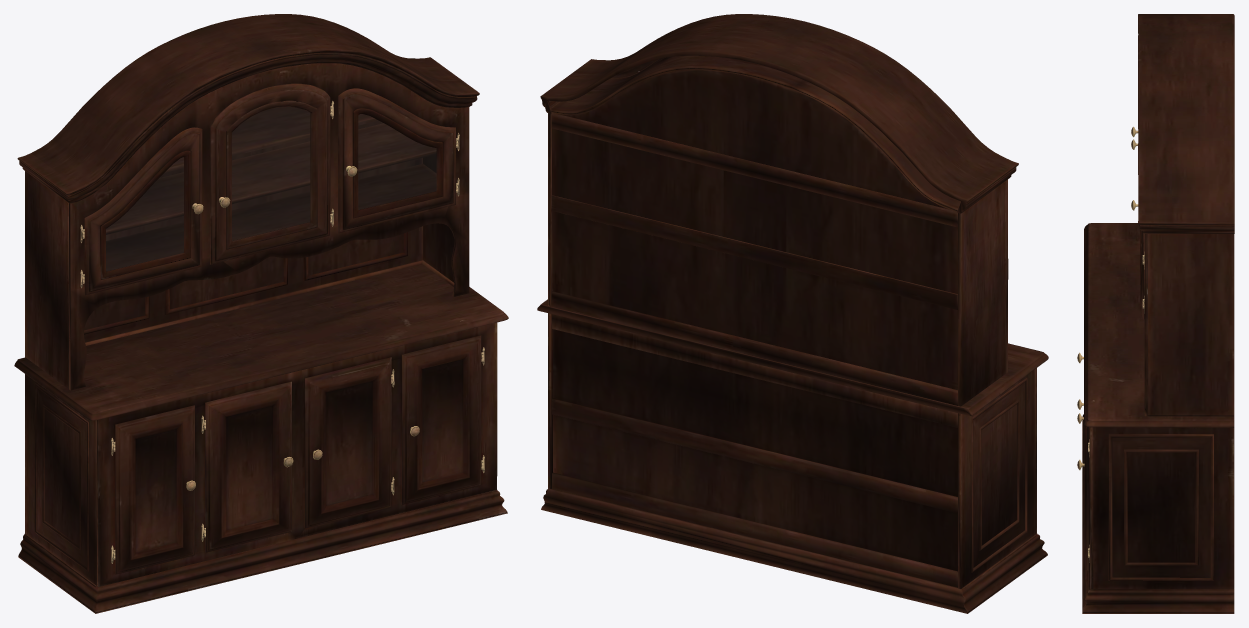
File: vintage_cabinet_01.glb
The picture shows the model from 3 angles, left to right: view 1: azimuth 30°, elevation 25°; view 2: azimuth 150°, elevation 25°; view 3: azimuth 270°, elevation 25°; orthographic projection. The views are drawn at different scales.
Visible parts, largest first — view 1: vintage_cabinet_01_body, vintage_cabinet_01_door_03, vintage_cabinet_01_door_01, vintage_cabinet_01_door_04, vintage_cabinet_01_door_07, vintage_cabinet_01_door_06, vintage_cabinet_01_door_02, vintage_cabinet_01_door_05; view 2: vintage_cabinet_01_body; view 3: vintage_cabinet_01_body, vintage_cabinet_01_door_02, vintage_cabinet_01_door_04.
Boxes of the visible parts, bbox=[...] form: vintage_cabinet_01_body: bbox=[14, 14, 508, 613]; vintage_cabinet_01_door_03: bbox=[210, 83, 332, 264]; vintage_cabinet_01_door_01: bbox=[83, 127, 203, 295]; vintage_cabinet_01_door_04: bbox=[338, 88, 457, 233]; vintage_cabinet_01_door_07: bbox=[304, 357, 392, 528]; vintage_cabinet_01_door_06: bbox=[204, 381, 293, 552]; vintage_cabinet_01_door_02: bbox=[401, 335, 483, 504]; vintage_cabinet_01_door_05: bbox=[113, 405, 195, 574]; vintage_cabinet_01_body: bbox=[537, 14, 1048, 613]; vintage_cabinet_01_body: bbox=[1082, 14, 1234, 613]; vintage_cabinet_01_door_02: bbox=[1077, 426, 1089, 572]; vintage_cabinet_01_door_04: bbox=[1131, 200, 1144, 319].
Size of the model in its own units: 2.02 by 2.24 by 0.6698.
3 materials, 2 textured.
